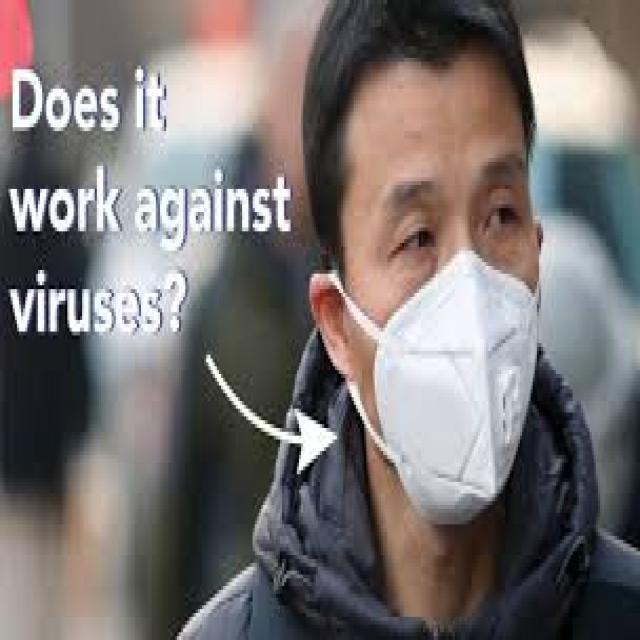mask: (315, 8, 541, 514)
